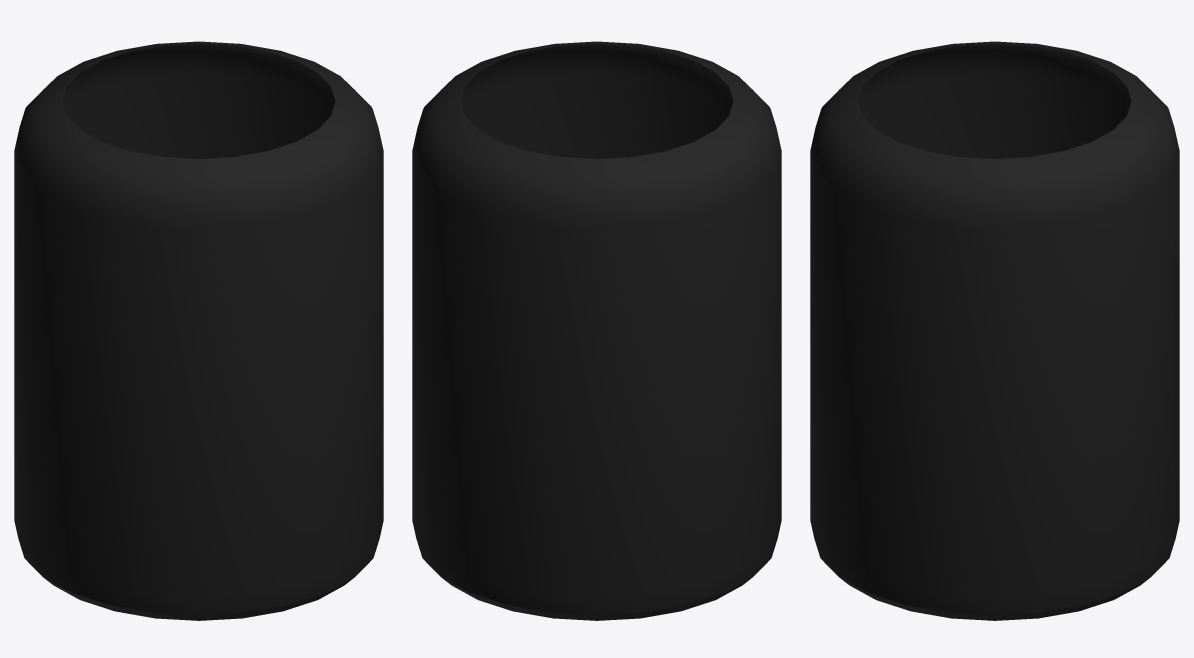
File: TanHuang_QiNang_1X3_off.FBX
3 views of the same model, side by side, from view 1: azimuth 30°, elevation 25°; view 2: azimuth 150°, elevation 25°; view 3: azimuth 270°, elevation 25° (orthographic).
Visible parts, largest first — view 1: Box001; view 2: Box001; view 3: Box001.
Part boxes in pixels (bbox=[...]): Box001: bbox=[14, 41, 383, 620]; Box001: bbox=[412, 41, 781, 620]; Box001: bbox=[810, 41, 1179, 620].
Bounding box in the file's own units: 2 × 3 × 2.
